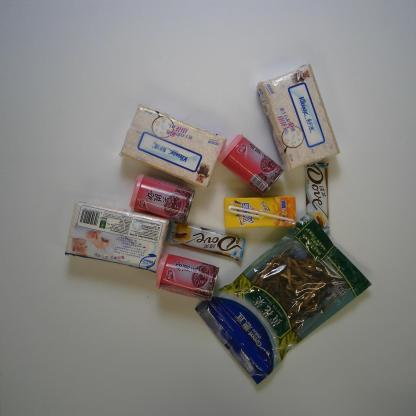Canned Food: (217, 133, 285, 198), (125, 172, 199, 224), (153, 252, 223, 304)
Chocolate: (163, 218, 245, 262), (299, 158, 333, 240)
Dried Food: (193, 216, 374, 388)
Drink: (220, 194, 304, 233)
Tissue: (254, 62, 342, 176), (120, 103, 229, 193), (59, 197, 175, 277)
